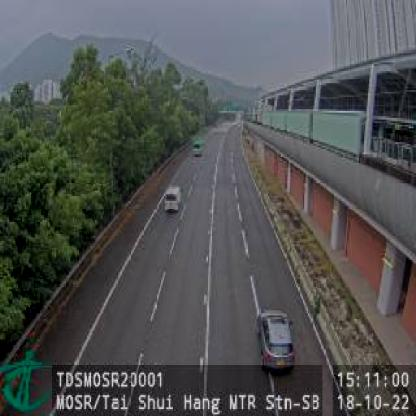Car: (257, 308, 298, 374), (163, 183, 184, 215)
Minibus: (191, 135, 206, 158)
